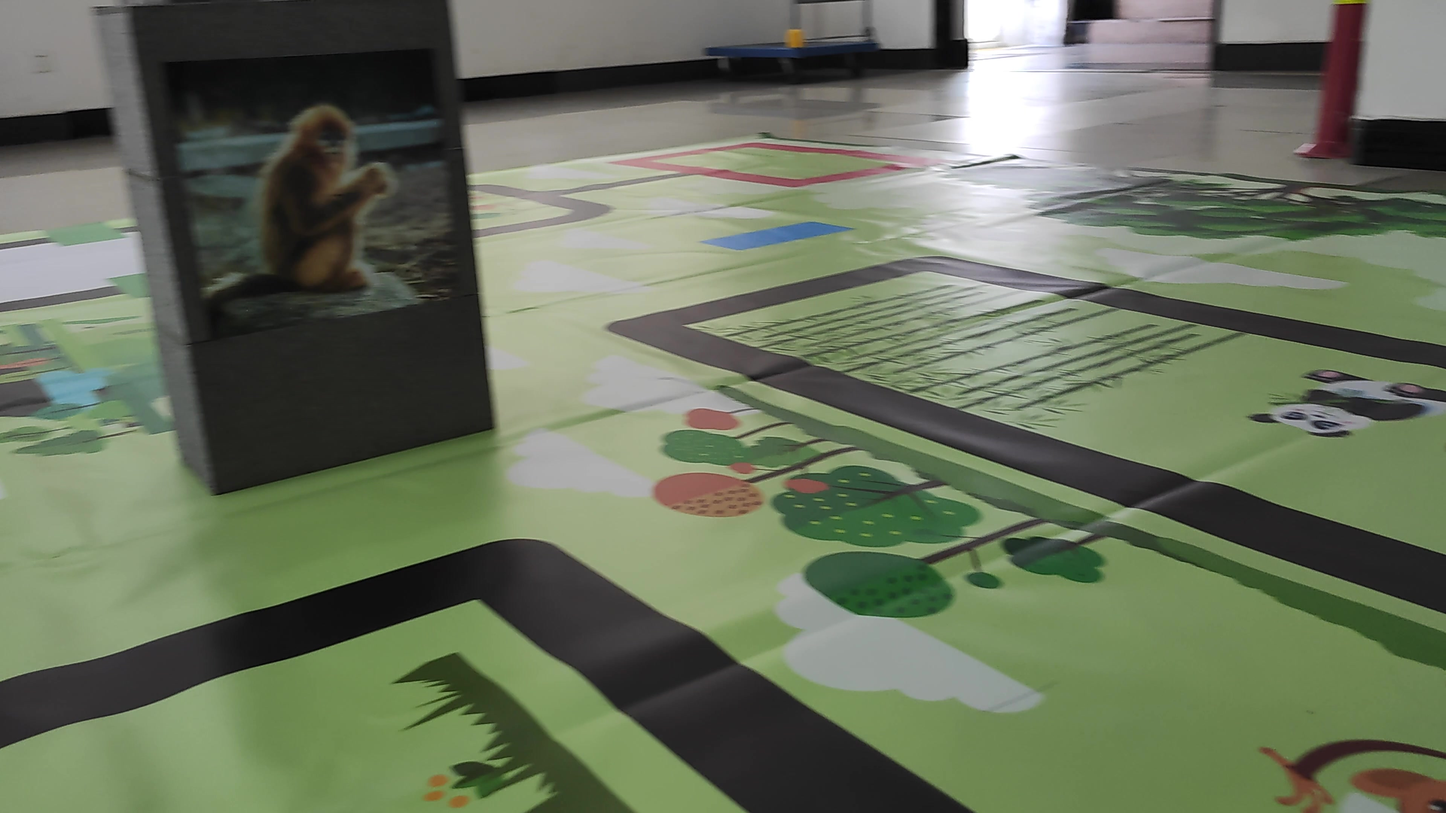monkey: (230, 87, 451, 309)
